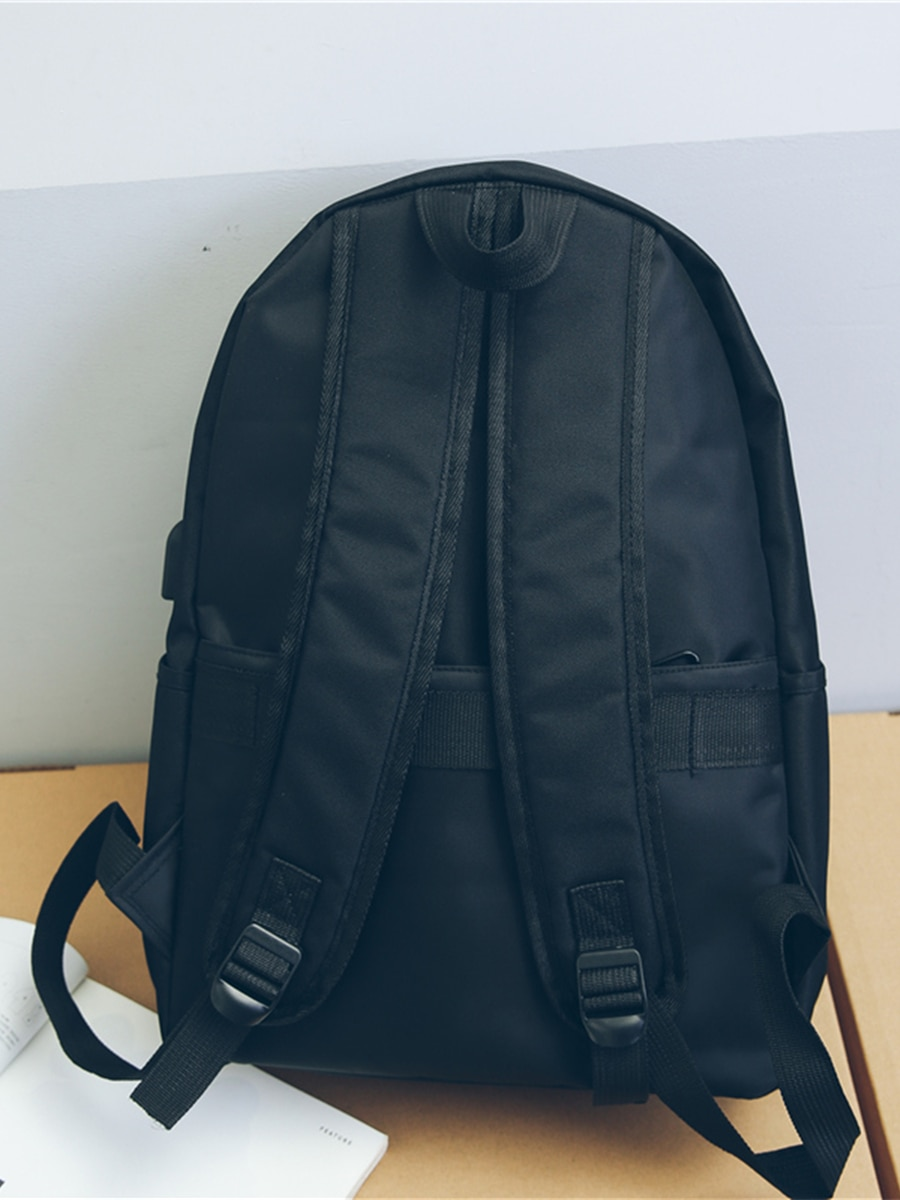Men's Backpacks: (25, 156, 863, 1200)
